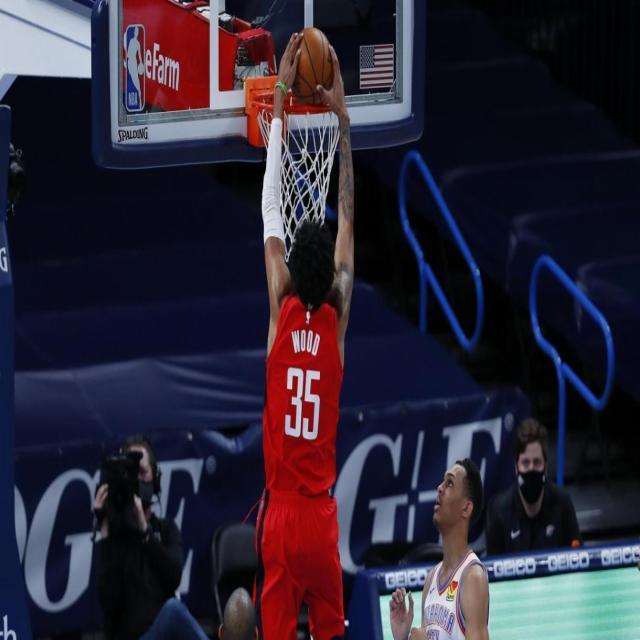rim: (291, 28, 330, 101)
